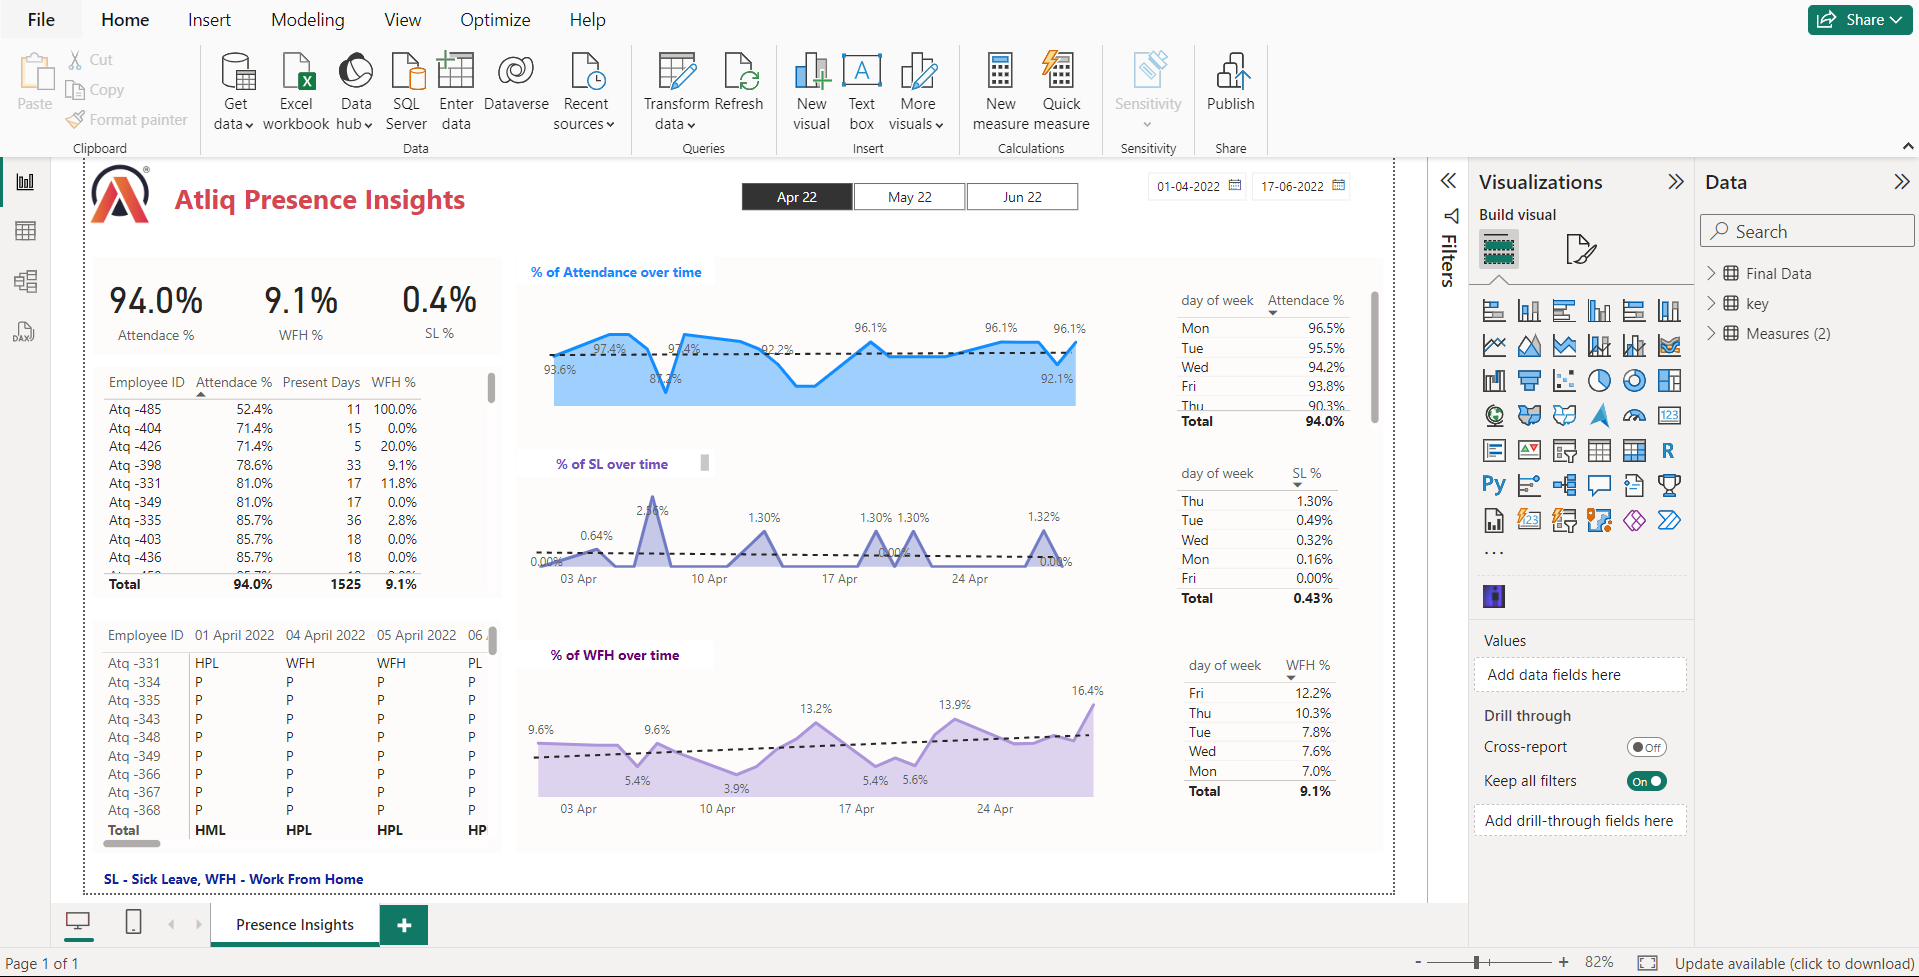

Layout of this report page (visuals, bound fields, positions):
{"tool":"powerbi","page":{"name":"Presence Insights","canvas":[1280,720],"ordinal":0},"visuals":[{"type":"textbox","box":[7.8,205.6,399.9,225.5],"z":0},{"type":"textbox","box":[7.8,453.3,399.8,227.6],"z":1000},{"type":"textbox","box":[422.3,97.9,848.1,582.3],"z":2000},{"type":"textbox","box":[7.8,98,399.9,95.4],"z":3000},{"type":"tableEx","fields":{"Values":["Final Data.Employee ID","Measures (2).Attendace %","Measures (2).Present Days","Measures (2).WFH %"]},"box":[12.6,205.2,394.9,225.7],"z":4000},{"type":"slicer","fields":{"Values":["Final Data.Date"]},"box":[1027.3,5.2,252.7,46.3],"z":5000},{"type":"slicer","fields":{"Values":["Final Data.MMM YY"]},"box":[616.1,18.3,378.9,35.4],"z":6000},{"type":"areaChart","fields":{"Category":["Final Data.MMM YY","Final Data.Date"],"Y":["Measures (2).WFH %"]},"box":[420.7,502.3,589,153.5],"z":7000},{"type":"areaChart","fields":{"Category":["Final Data.WeekNo","Final Data.Date"],"Y":["Measures (2).Attendace %"]},"box":[444.1,144.9,540.4,103.2],"z":8000},{"type":"card","fields":{"Values":["Measures (2).Attendace %"]},"box":[7.8,98,124,96.3],"z":9000},{"type":"card","fields":{"Values":["Measures (2).WFH %"]},"box":[141.4,98,138.8,96.3],"z":10000},{"type":"areaChart","fields":{"Category":["Final Data.MMM YY","Final Data.Date"],"Y":["Measures (2).SL %"]},"box":[422.5,307.1,556,124],"z":11000},{"type":"image","box":[0,0,70,71],"z":12000},{"type":"card","fields":{"Values":["Measures (2).SL %"]},"box":[286.3,97.2,121.4,96.3],"z":13000},{"type":"textbox","box":[70.3,0,320.1,71.1],"z":14000},{"type":"textbox","box":[422.4,98.2,192.5,27.5],"z":15000},{"type":"textbox","box":[422.5,286.3,192.6,26.9],"z":16000},{"type":"textbox","box":[422.1,473.7,192.6,27.2],"z":17000},{"type":"pivotTable","fields":{"Rows":["Final Data.Employee ID"],"Columns":["Final Data.Date"],"Values":["Min(Final Data.Value)"]},"box":[11.7,453.3,395.9,227.6],"z":18000},{"type":"textbox","box":[13.6,691.6,289.8,28.2],"z":19000},{"type":"tableEx","fields":{"Values":["Final Data.day of week","Measures (2).Attendace %"]},"box":[1060.9,125.8,209.9,145.7],"z":20000},{"type":"tableEx","fields":{"Values":["Final Data.day of week","Measures (2).SL %"]},"box":[1060.9,294.1,191.7,167.4],"z":21000},{"type":"tableEx","fields":{"Values":["Final Data.day of week","Measures (2).WFH %"]},"box":[1068.7,483.2,170,167.4],"z":22000}]}

Visuals, with their boxes on the page's 1280x720 design canvas (x1, y1, x2, y2). These are canvas units, not pixel positions in the 1919x977 screenshot, which may show the page scaled, cropped or inside an application window:
textbox: Rect(8, 206, 408, 431)
textbox: Rect(8, 453, 408, 681)
textbox: Rect(422, 98, 1270, 680)
textbox: Rect(8, 98, 408, 193)
tableEx - Final Data.Employee ID x Measures (2).Attendace %: Rect(13, 205, 408, 431)
slicer - Final Data.Date: Rect(1027, 5, 1280, 52)
slicer - Final Data.MMM YY: Rect(616, 18, 995, 54)
areaChart - Final Data.MMM YY x Final Data.Date: Rect(421, 502, 1010, 656)
areaChart - Final Data.WeekNo x Final Data.Date: Rect(444, 145, 984, 248)
card - Measures (2).Attendace %: Rect(8, 98, 132, 194)
card - Measures (2).WFH %: Rect(141, 98, 280, 194)
areaChart - Final Data.MMM YY x Final Data.Date: Rect(422, 307, 978, 431)
image: Rect(0, 0, 70, 71)
card - Measures (2).SL %: Rect(286, 97, 408, 194)
textbox: Rect(70, 0, 390, 71)
textbox: Rect(422, 98, 615, 126)
textbox: Rect(422, 286, 615, 313)
textbox: Rect(422, 474, 615, 501)
pivotTable - Final Data.Employee ID x Final Data.Date: Rect(12, 453, 408, 681)
textbox: Rect(14, 692, 303, 720)
tableEx - Final Data.day of week x Measures (2).Attendace %: Rect(1061, 126, 1271, 272)
tableEx - Final Data.day of week x Measures (2).SL %: Rect(1061, 294, 1253, 462)
tableEx - Final Data.day of week x Measures (2).WFH %: Rect(1069, 483, 1239, 651)
